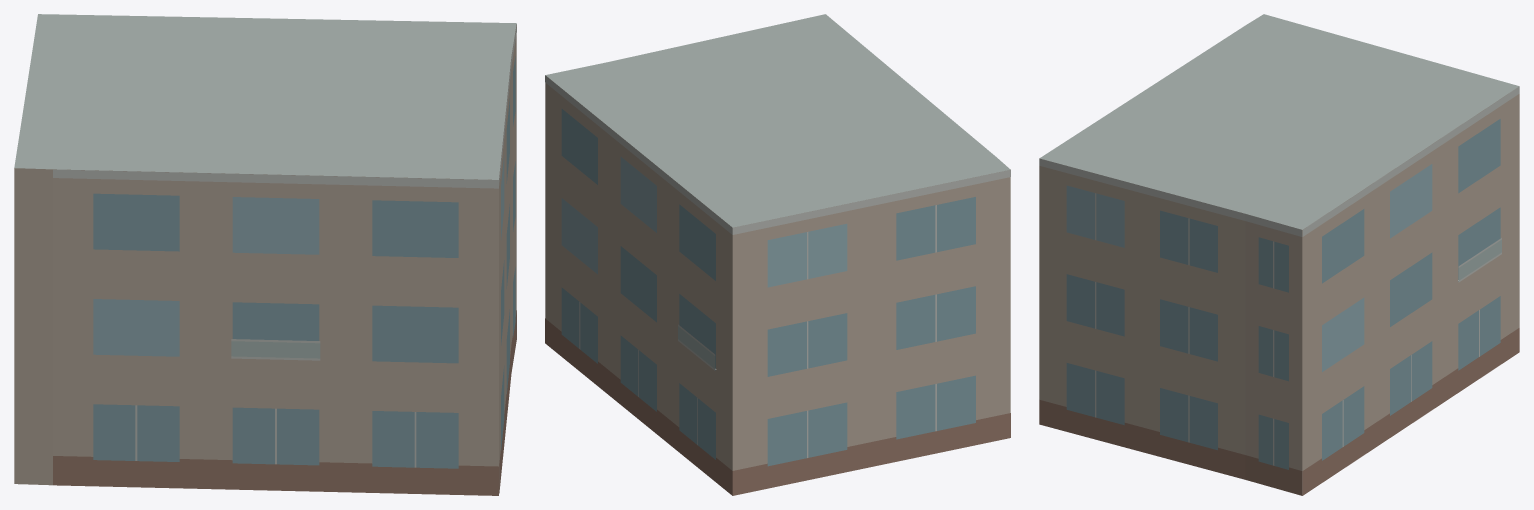
File: survey-upis-32972391.glb
3 renders of one model, left to right at view 1: azimuth 30°, elevation 25°; view 2: azimuth 150°, elevation 25°; view 3: azimuth 270°, elevation 25°, orthographic. The views are drawn at different scales.
Parts seen in each view (by area): view 1: survey-upis-32972391.tmp; view 2: survey-upis-32972391.tmp; view 3: survey-upis-32972391.tmp.
Part boxes in pixels (x1,y1,x2,y2): survey-upis-32972391.tmp: [14, 14, 516, 495]; survey-upis-32972391.tmp: [545, 14, 1010, 495]; survey-upis-32972391.tmp: [1039, 14, 1519, 495].
Bounding box in the file's own units: 15.5 × 8.9 × 14.58.
